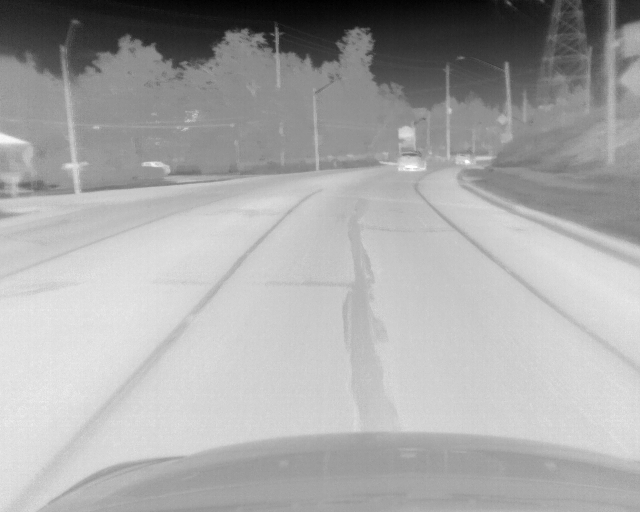car: (396, 151, 426, 171), (141, 160, 172, 176), (454, 150, 475, 166)
